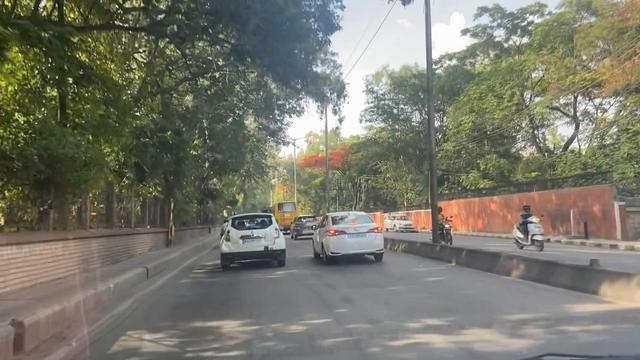LMV: (220, 215, 285, 267), (313, 213, 382, 259), (294, 216, 316, 237)
